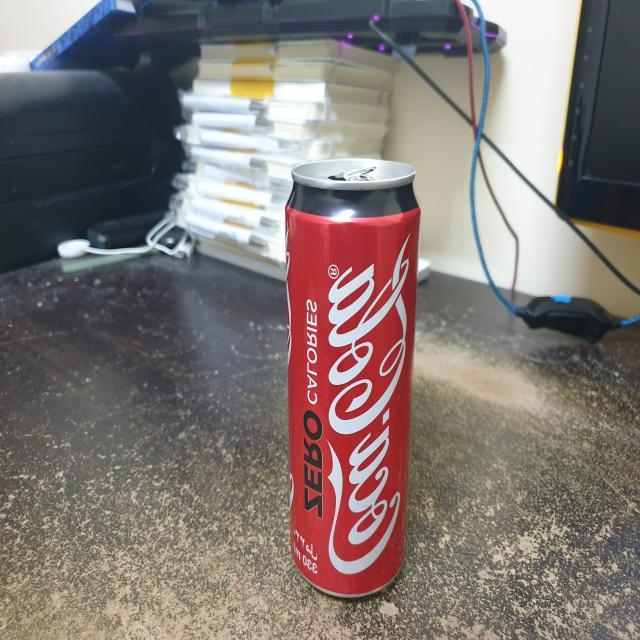can: (277, 146, 423, 606)
